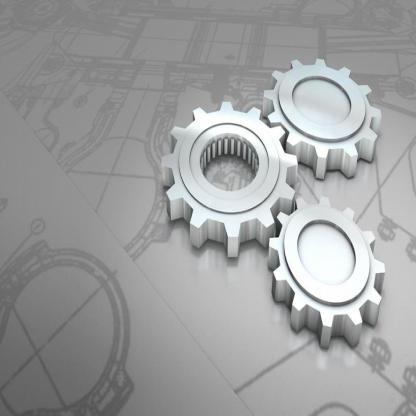FOD: (160, 96, 298, 263), (265, 191, 386, 352), (260, 53, 382, 181)
